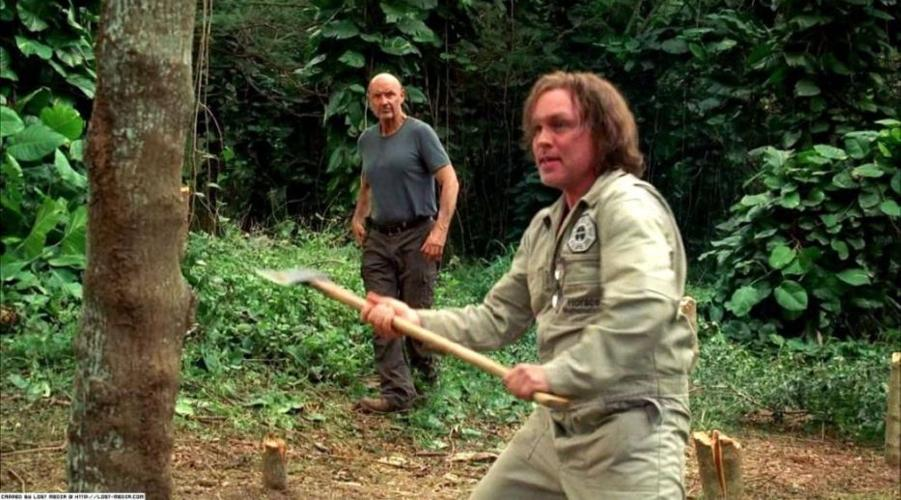person: (360, 71, 697, 500)
